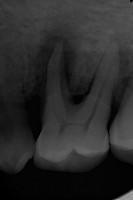Dental Caries: (30, 32, 76, 101), (70, 72, 96, 106)
